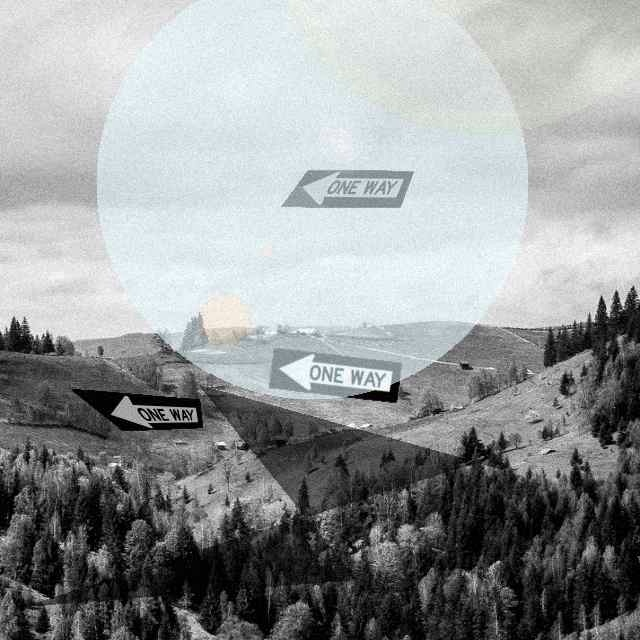ONE_WAY_ left: (268, 347, 402, 403), (69, 388, 203, 431), (280, 169, 414, 208)
